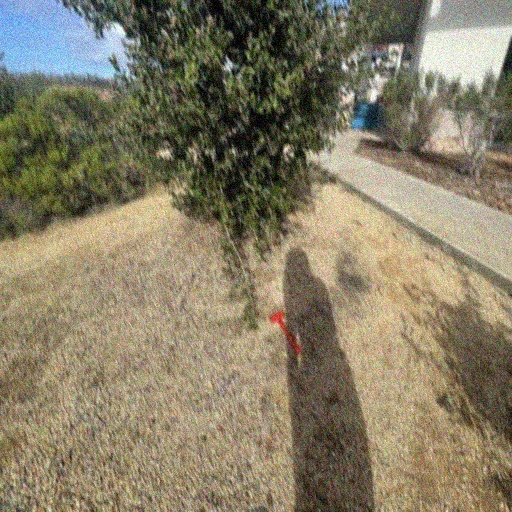mallet: (268, 310, 302, 356)
